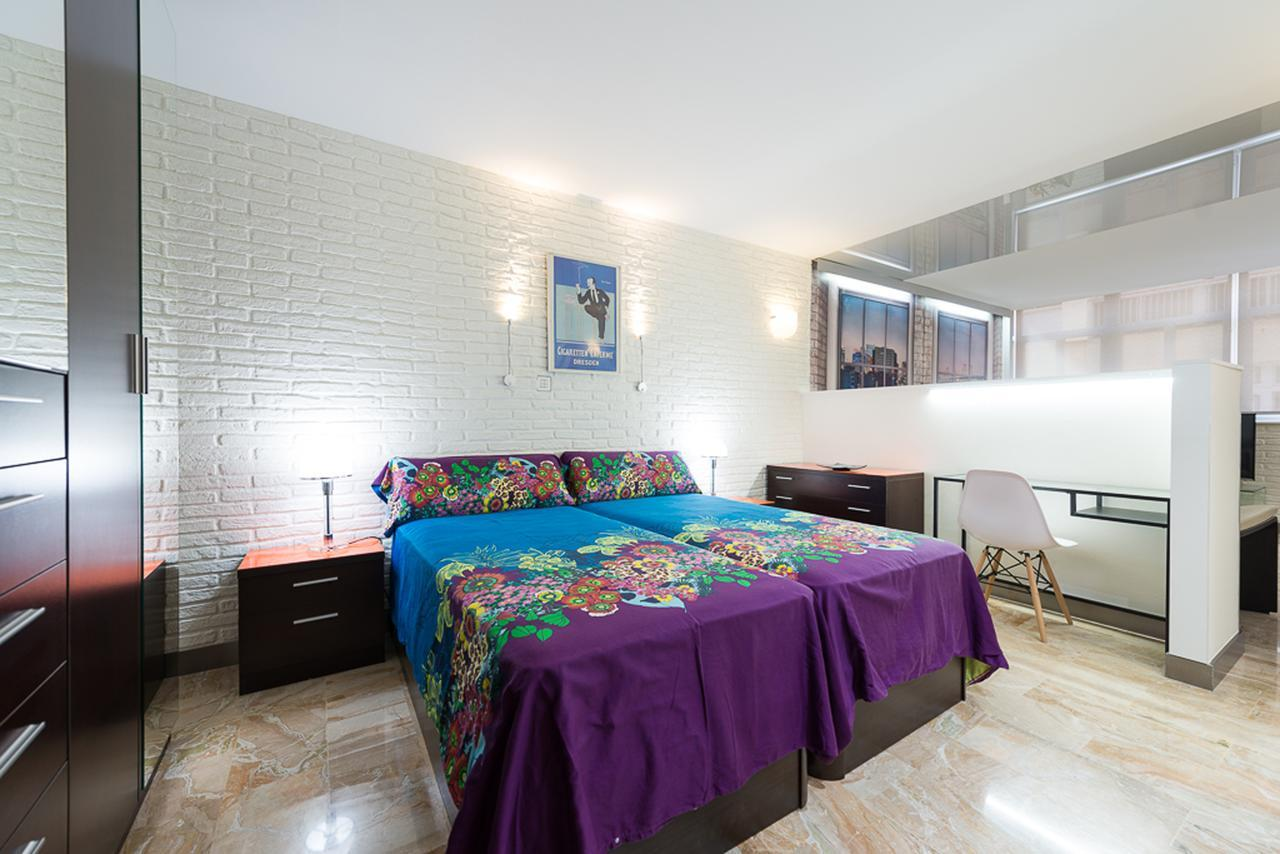bed: (410, 378, 900, 822)
